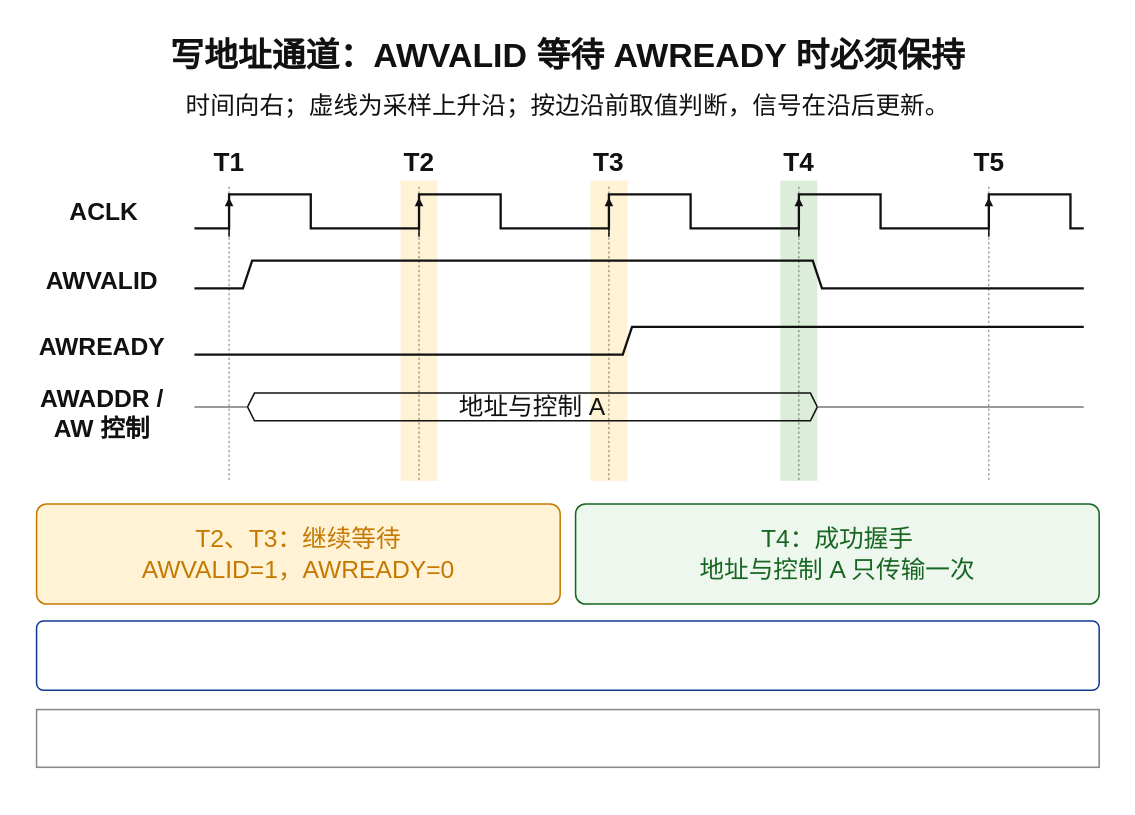
This 1135x815 diagram has some shape labels left out. The centre of each missing label's shape, as x and y in pixels:
AWVALID 一旦置位，在握手完成前不得撤销；AWADDR 和其他 AW 控制字段也必须保持稳定。: the point at 567,655
Master 驱动 AWVALID 和 AW 通道载荷；Slave 驱动 AWREADY。补充图（非原文图）: the point at 567,738
